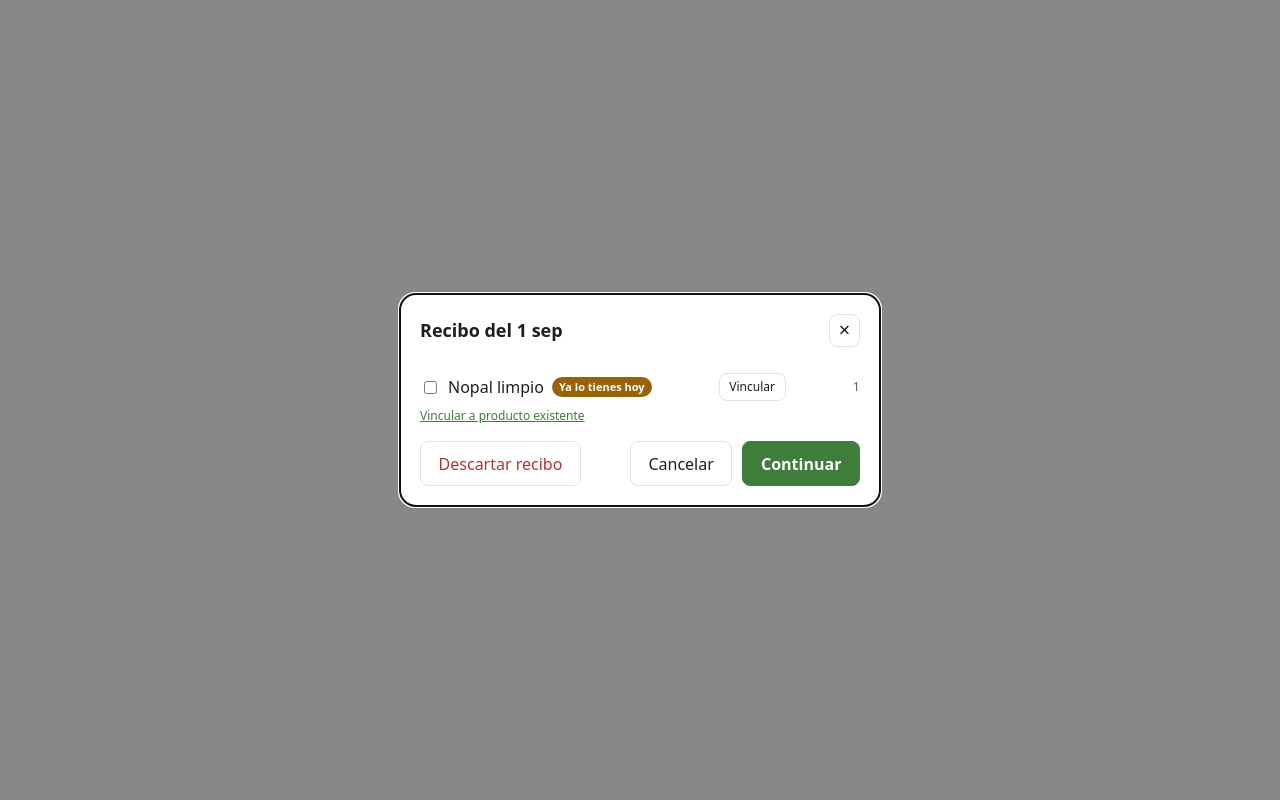
it: ReceiptTripDialog automatic link to existing › resolves straight to the existing product, without ProductForm
Click the button "Vincular": x=752, y=387 [719,373,786,401]
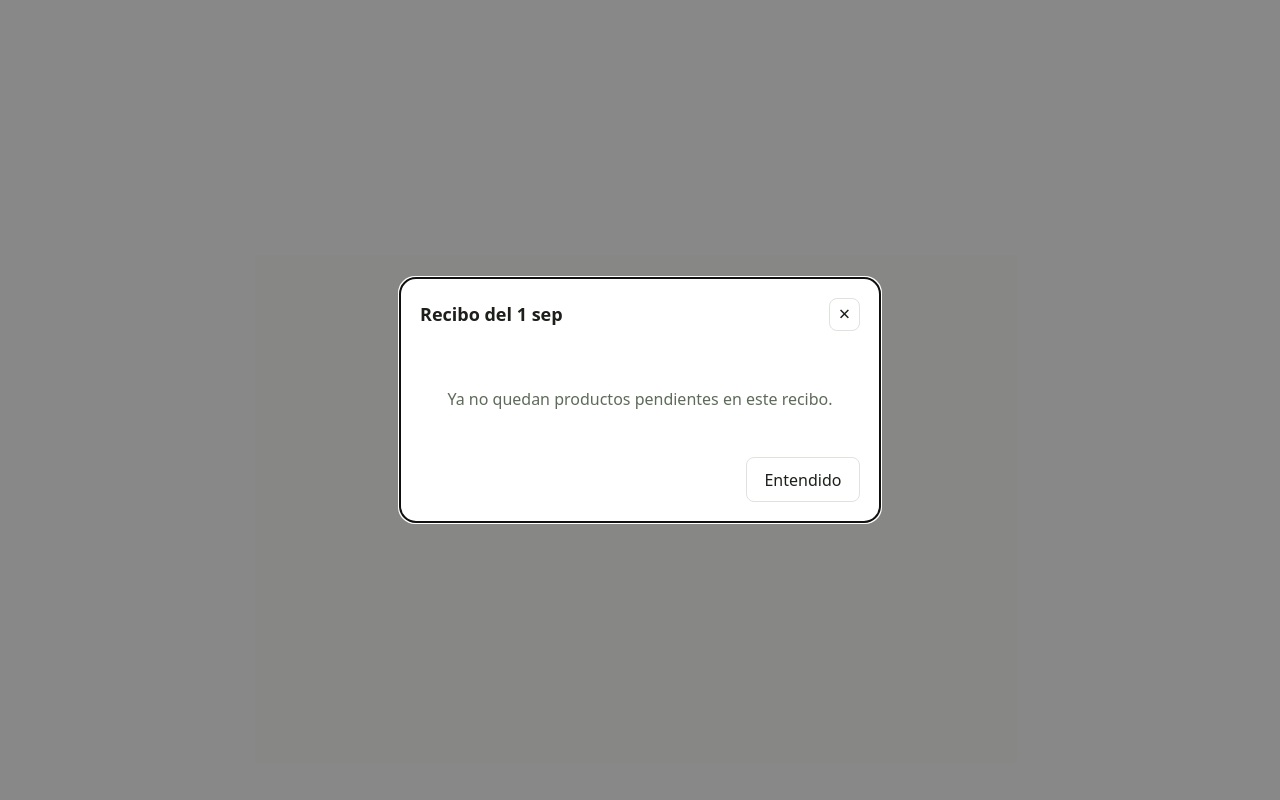
Expected: the text "Nopal limpio" is gone
